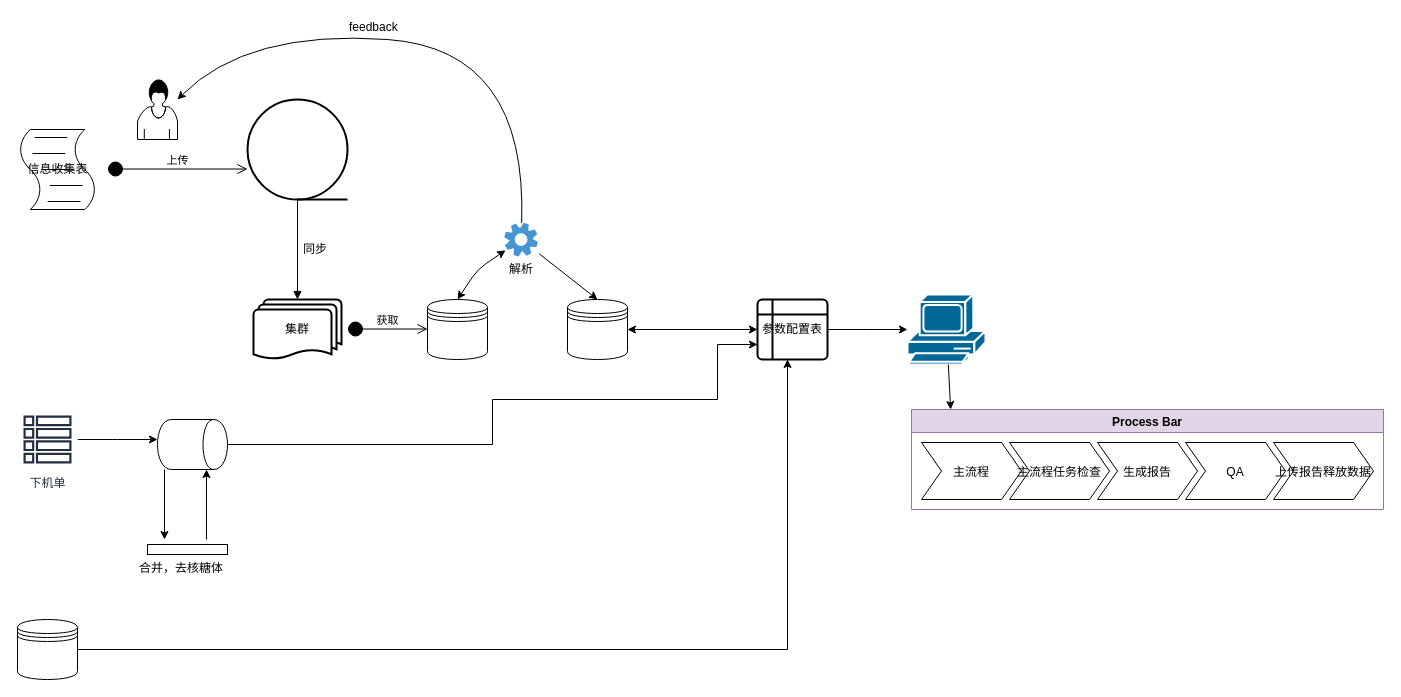
This 1401x697 diagram has some shape labels left out. The shapes that lost their labels are listed below. From the top down, each one's centre as x and y in pixels, then its label:
pixel 297 149: lims
pixel 457 329: xinxishoujibiao
pixel 597 329: sample_refrna
pixel 192 444: mangodb
pixel 47 649: 参考基因组数据库
